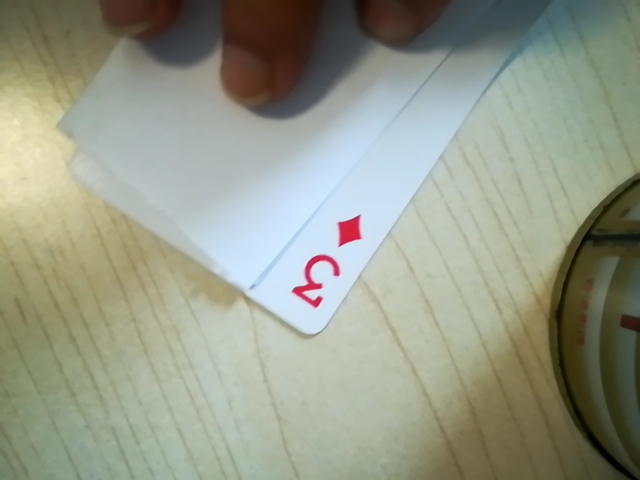fk 3: (277, 212, 367, 317)
